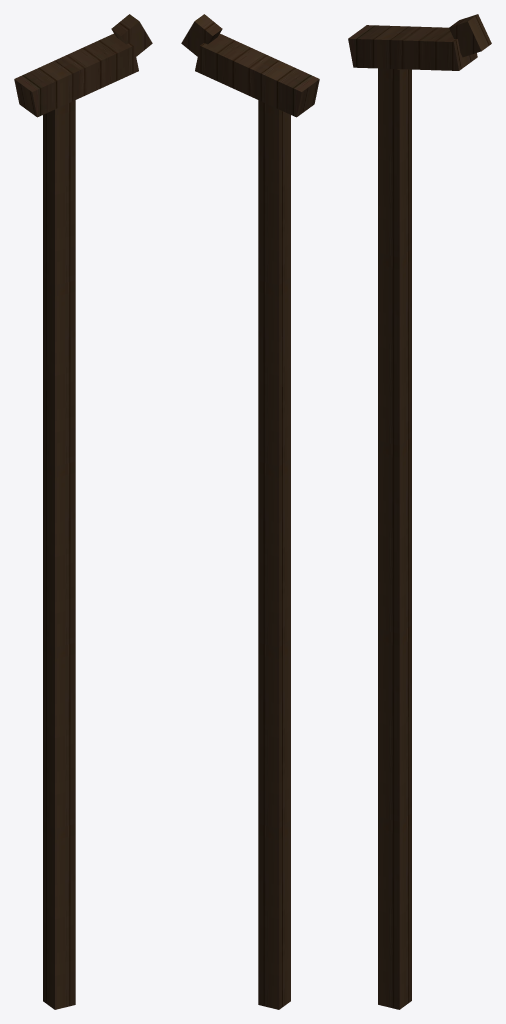
File: sotdae_01.glb
3 renders of one model, left to right at view 1: azimuth 30°, elevation 25°; view 2: azimuth 150°, elevation 25°; view 3: azimuth 330°, elevation 25°, orthographic. The views are drawn at different scales.
Visible parts, largest first — view 1: sotdae_01; view 2: sotdae_01; view 3: sotdae_01.
Part boxes in pixels (x1,y1,x2,y2): sotdae_01: (14,14,152,1009); sotdae_01: (181,14,319,1009); sotdae_01: (348,14,491,1009).
Size of the model in its own units: 0.7202 by 5.34 by 0.1799.
Materials: 1 (1 with a texture image).
